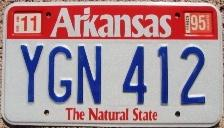1: (156, 44, 174, 108)
2: (178, 44, 208, 107)
4: (121, 44, 151, 106)
G: (46, 44, 74, 104)
N: (75, 44, 105, 106)
Y: (18, 43, 45, 105)
